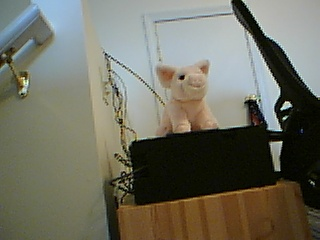piggy: (152, 57, 221, 136)
